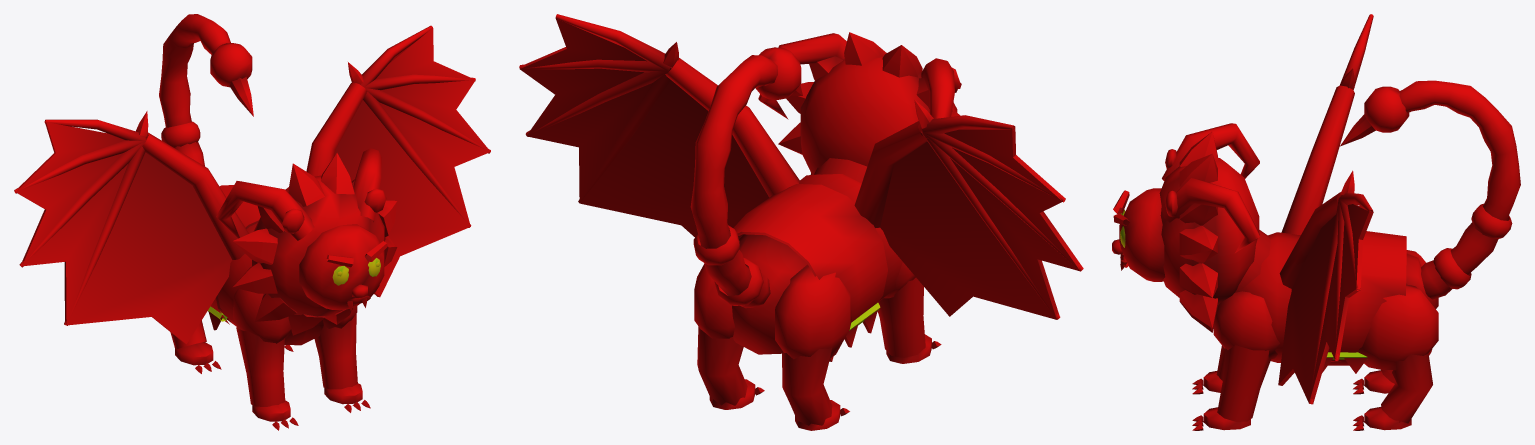
Rendered from Manticore.glb.
3 renders of one model, left to right at view 1: azimuth 30°, elevation 25°; view 2: azimuth 150°, elevation 25°; view 3: azimuth 270°, elevation 25°, orthographic. The views are drawn at different scales.
Visible parts, largest first — view 1: Manticore; view 2: Manticore; view 3: Manticore.
Boxes of the visible parts, box(x1,y1,x2,y2) form: Manticore: box(14, 14, 490, 430); Manticore: box(519, 14, 1083, 430); Manticore: box(1112, 14, 1520, 430).
Bounding box in the file's own units: 3.02 × 1.92 × 2.18.
